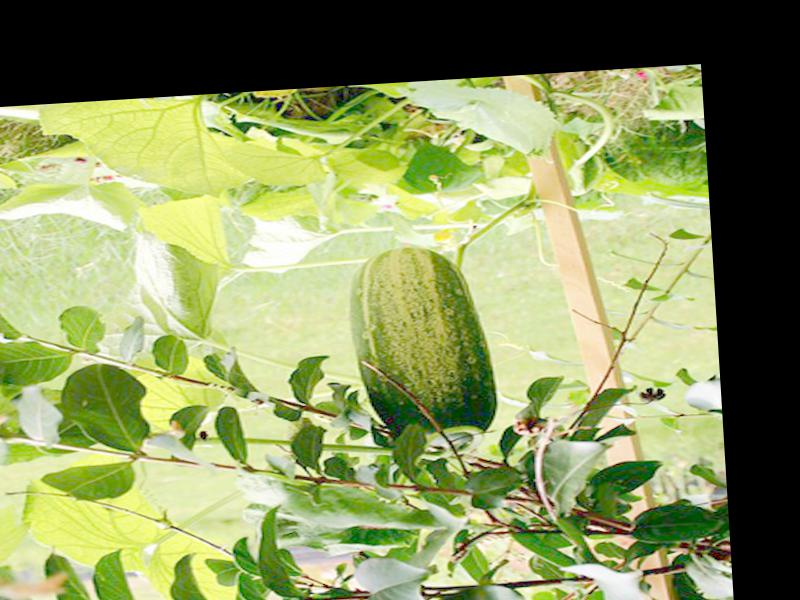Cucumber: (349, 241, 502, 461)
